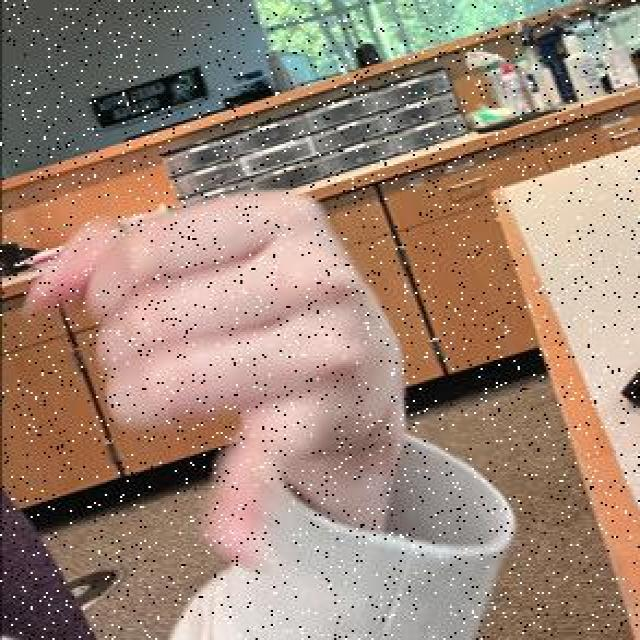J: (20, 181, 417, 589)
